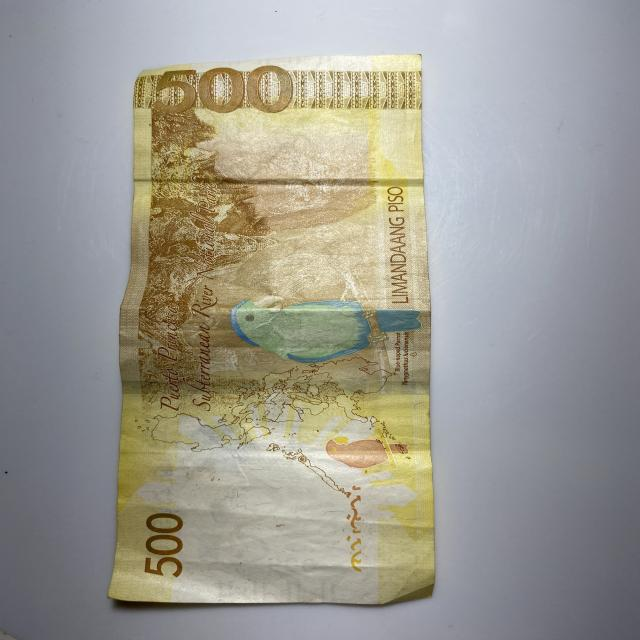500_big_parrot: (232, 295, 422, 363)
500_parrot_watermark: (324, 433, 406, 467)
value_watermark: (265, 555, 320, 574)
watermark: (168, 457, 347, 583)
